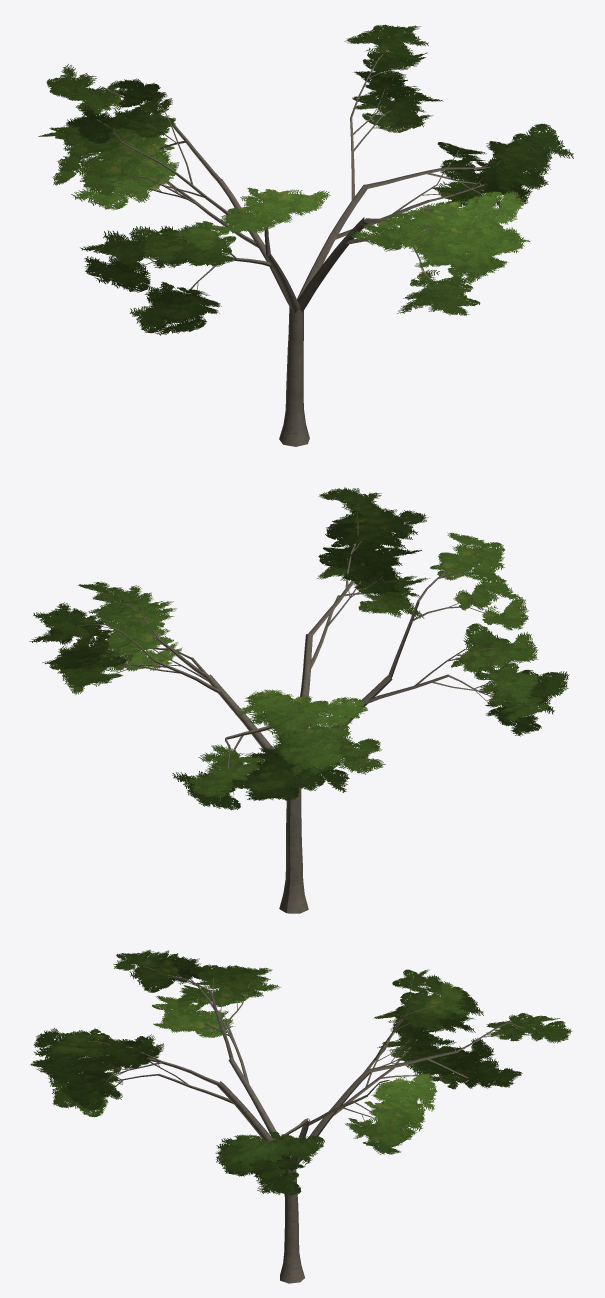
Rendered from albizia-schimperiana-lod1.glb.
3 renders of one model, top to bottom at view 1: azimuth 30°, elevation 25°; view 2: azimuth 150°, elevation 25°; view 3: azimuth 270°, elevation 25°, orthographic. The views are drawn at different scales.
Parts seen in each view (by area): view 1: albizia_foliage, albizia_bark; view 2: albizia_foliage, albizia_bark; view 3: albizia_foliage, albizia_bark.
Part boxes in pixels (x1=…): albizia_foliage: x1=38, y1=24, x2=573, y2=335; albizia_bark: x1=84, y1=54, x2=504, y2=446; albizia_foliage: x1=29, y1=487, x2=569, y2=810; albizia_bark: x1=78, y1=512, x2=519, y2=913; albizia_foliage: x1=30, y1=949, x2=572, y2=1195; albizia_bark: x1=53, y1=965, x2=526, y2=1283.
Size of the model in its own units: 23.77 by 14.64 by 26.83.
2 materials, 2 textured.
